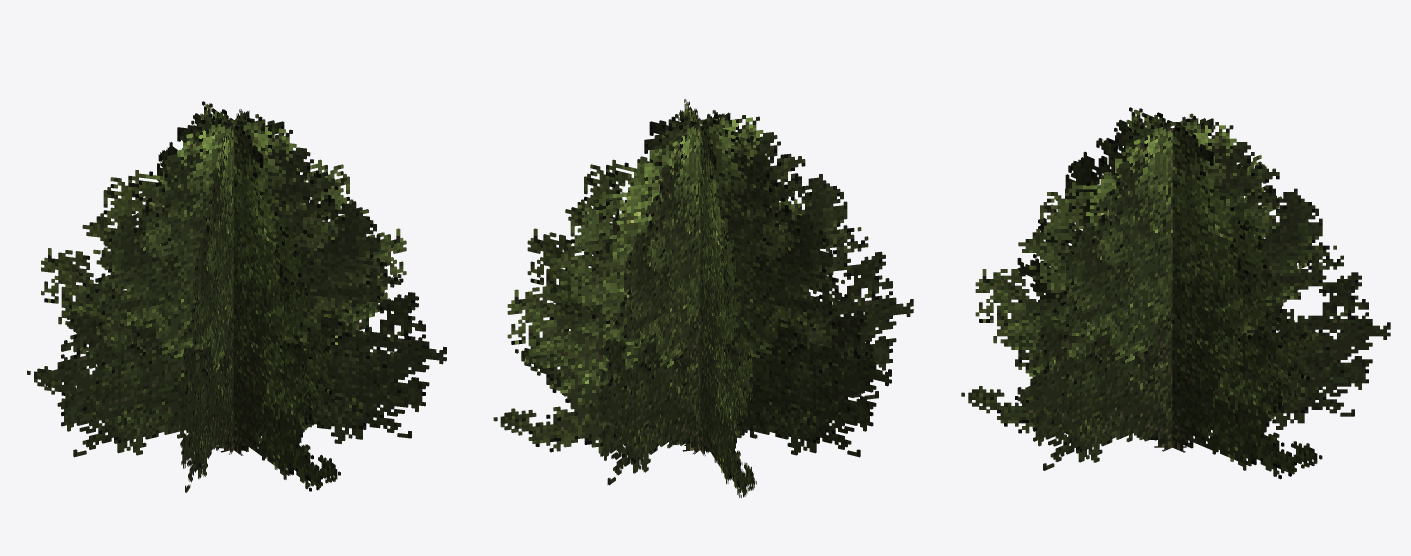
The model's file is bush04.glb.
The picture shows the model from 3 angles, left to right: view 1: azimuth 30°, elevation 25°; view 2: azimuth 150°, elevation 25°; view 3: azimuth 270°, elevation 25°; orthographic projection.
Parts seen in each view (by area): view 1: bush04; view 2: bush04; view 3: bush04.
Boxes of the visible parts, <box> form: bush04: <box>27,101,446,492</box>; bush04: <box>493,99,913,497</box>; bush04: <box>961,107,1390,479</box>.
Size of the model in its own units: 1.44 by 1.2 by 1.44.
Materials: 1 (1 with a texture image).
